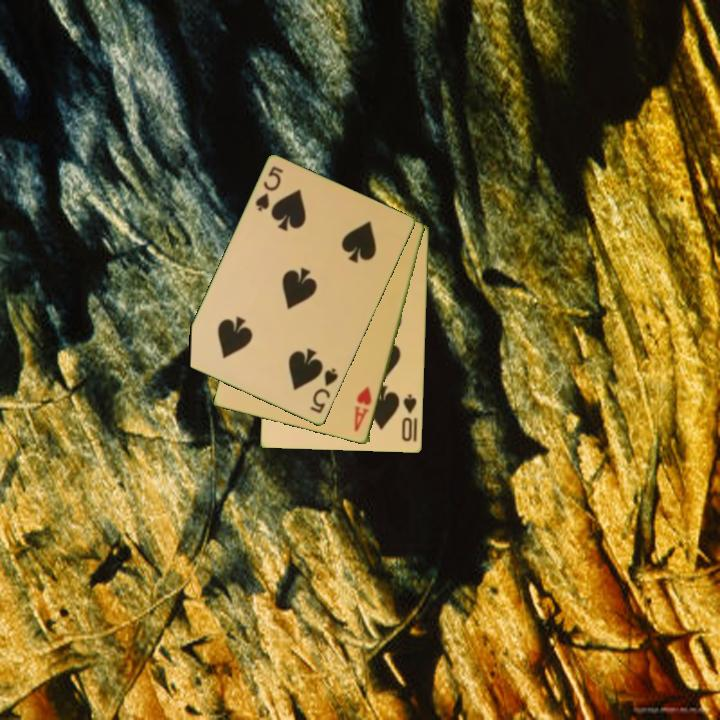10s: (398, 391, 420, 444)
5s: (252, 163, 287, 215), (307, 365, 341, 417)
Ah: (351, 383, 375, 435)
